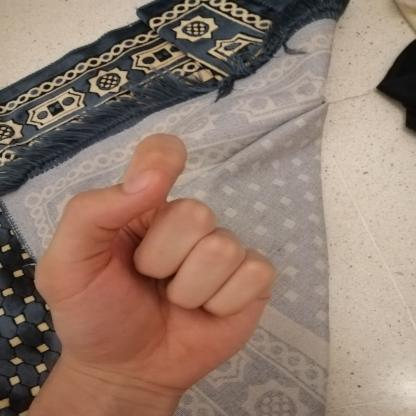FAA: (13, 119, 297, 404)
